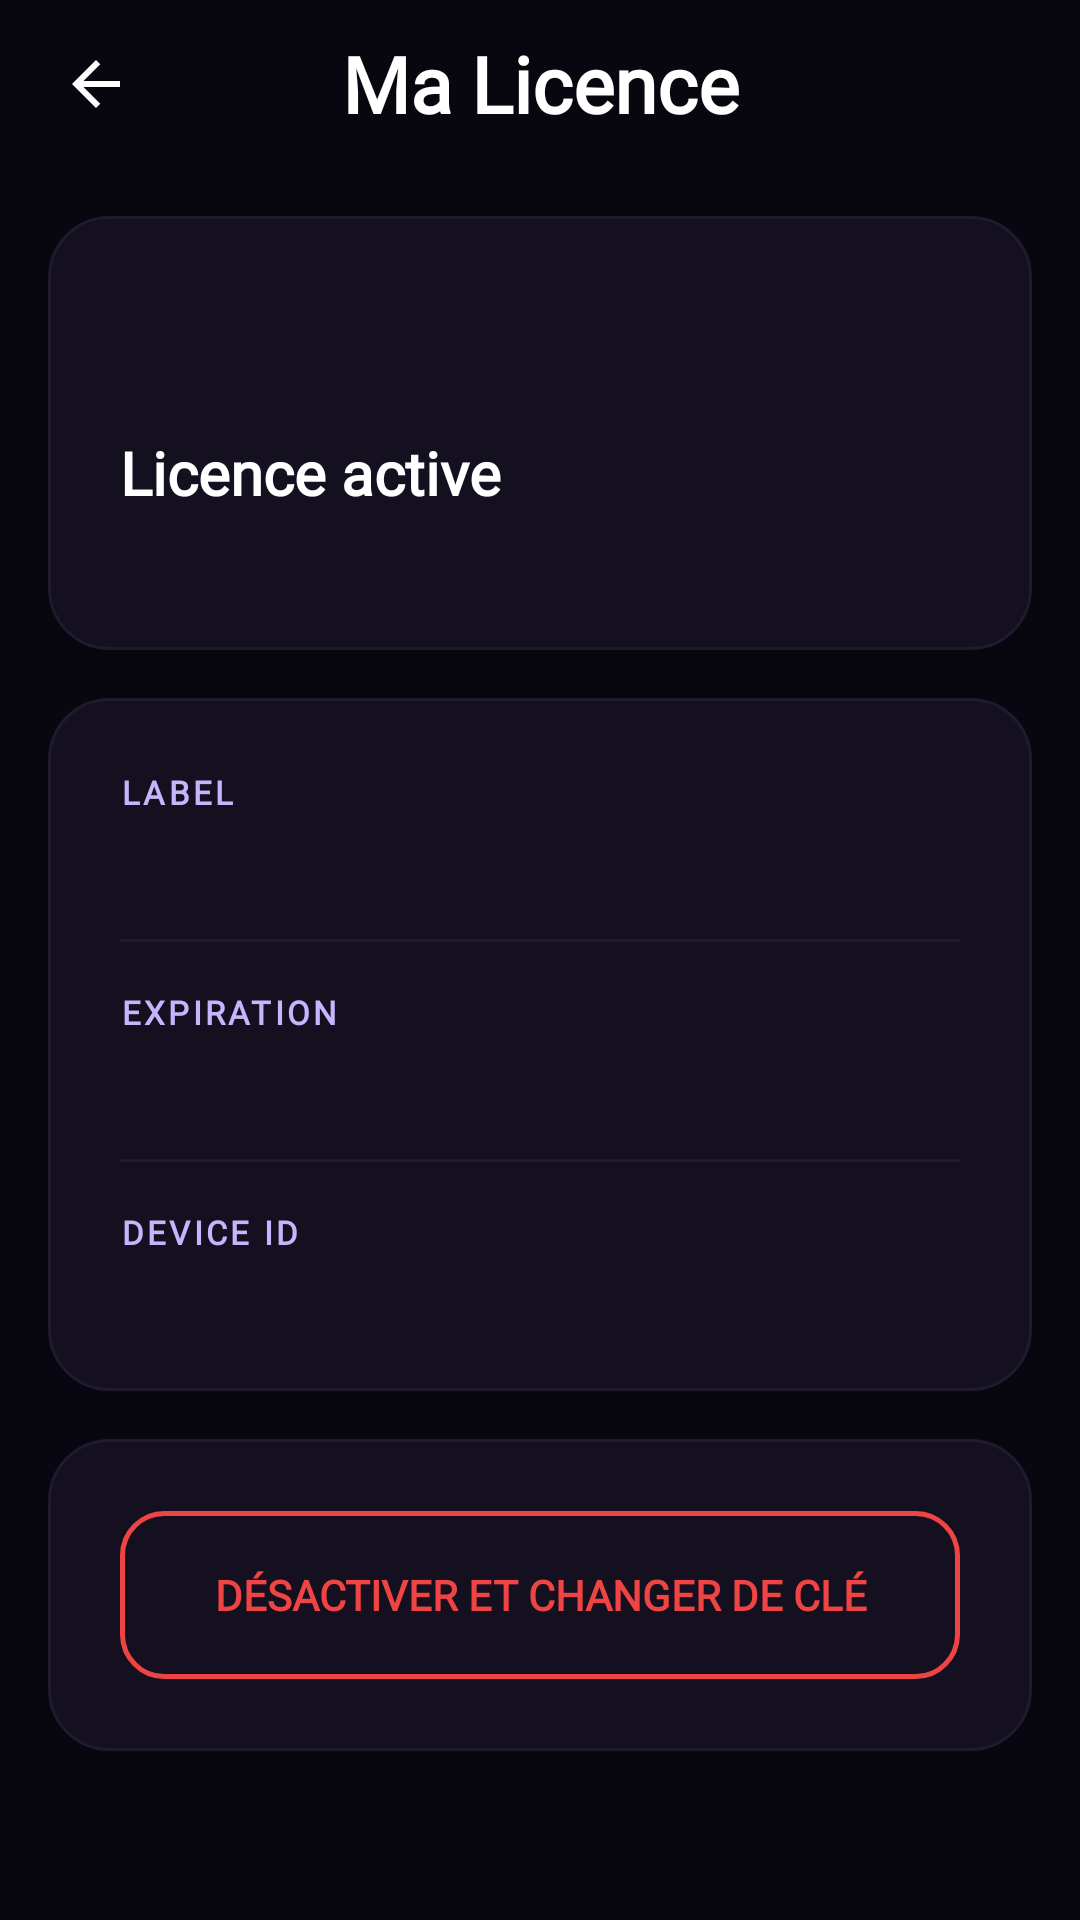

Locate icon controls on the screen. Image size 1080w x 1920h, boxes as rect(x1, y1, x2, y2).
Retour: rect(72, 60, 120, 108)
